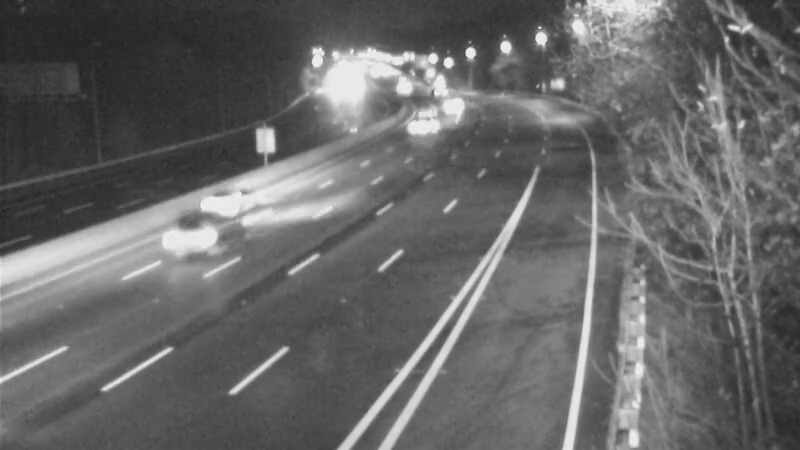vehicle: (182, 157, 262, 237), (165, 200, 245, 280), (426, 78, 476, 128), (401, 91, 451, 141)
